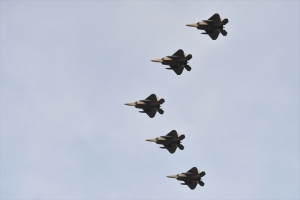flight: (185, 13, 230, 41), (150, 49, 193, 75), (123, 94, 166, 118), (144, 130, 186, 154), (166, 167, 206, 190)
